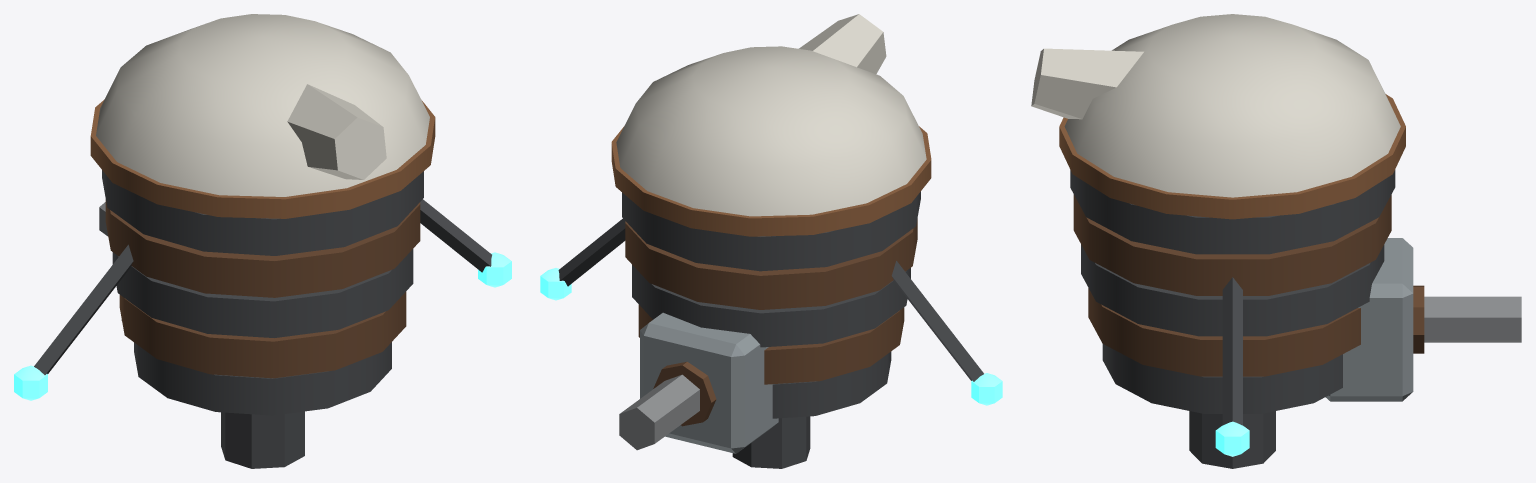
The model's file is defender.glb.
3 renders of one model, left to right at view 1: azimuth 30°, elevation 25°; view 2: azimuth 150°, elevation 25°; view 3: azimuth 270°, elevation 25°, orthographic. The views are drawn at different scales.
Visible parts, largest first — view 1: body; view 2: body; view 3: body.
Part boxes in pixels (x1,y1,x2,y2): body: (14,14,511,468); body: (540,14,1002,468); body: (1031,14,1521,468).
Bounding box in the file's own units: 0.7805 × 0.631 × 0.6788.
